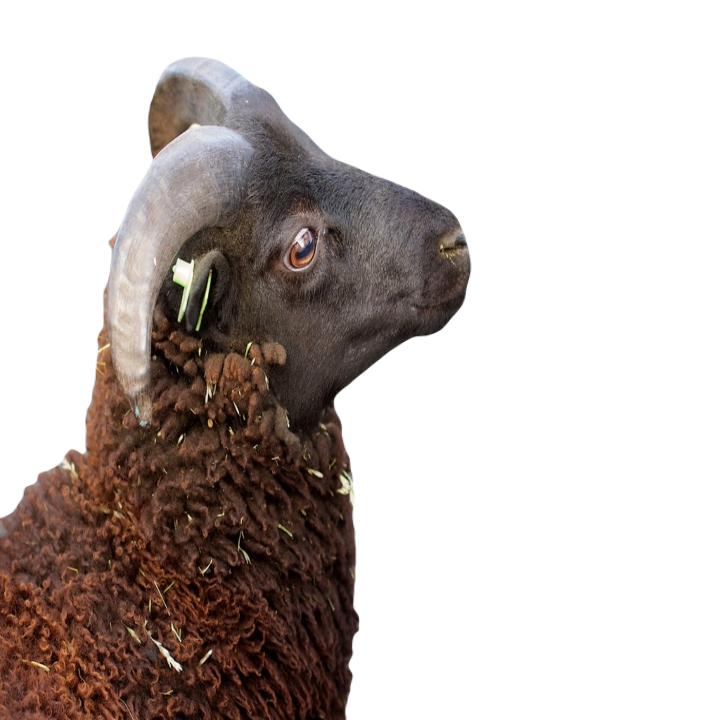Sheep: (0, 53, 482, 719)
